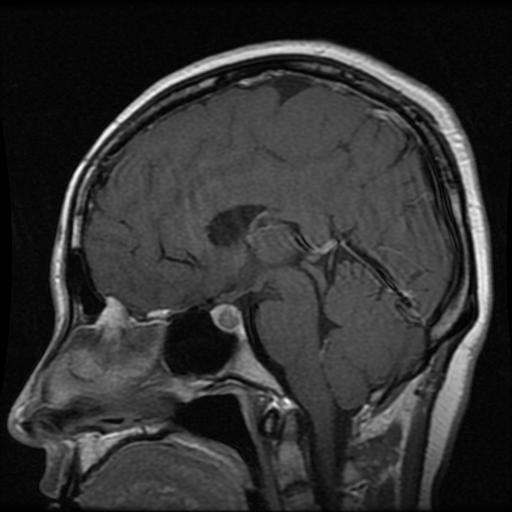Pituirity_tumour: (211, 305, 243, 335)
